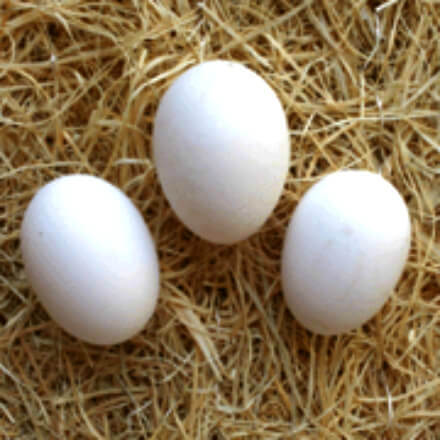Egg: (145, 53, 296, 250)
